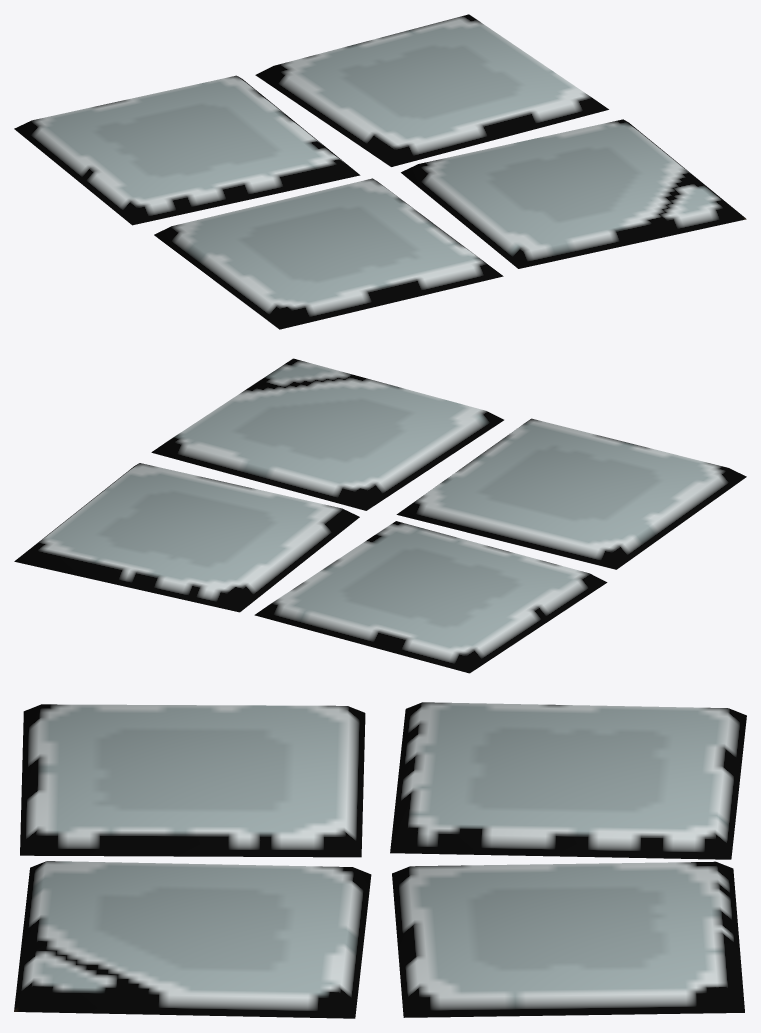
The model's file is deco_winter_groundTilesSpread.FBX.
3 renders of one model, top to bottom at view 1: azimuth 30°, elevation 25°; view 2: azimuth 150°, elevation 25°; view 3: azimuth 270°, elevation 25°, orthographic. The views are drawn at different scales.
Visible parts, largest first — view 1: deco_winter_groundTilesSpread; view 2: deco_winter_groundTilesSpread; view 3: deco_winter_groundTilesSpread.
Part boxes in pixels (x1,y1,x2,y2): deco_winter_groundTilesSpread: [14, 14, 746, 329]; deco_winter_groundTilesSpread: [14, 358, 746, 673]; deco_winter_groundTilesSpread: [14, 702, 746, 1018].
Size of the model in its own units: 1.95 by 0.0426 by 1.95.
1 material, 1 textured.
